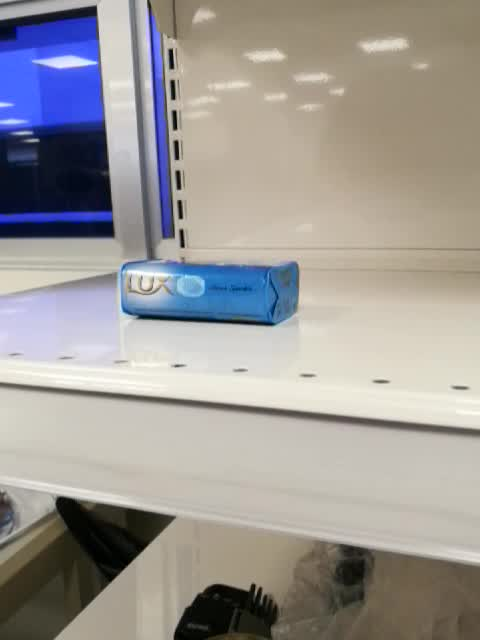soap: (117, 259, 301, 328)
